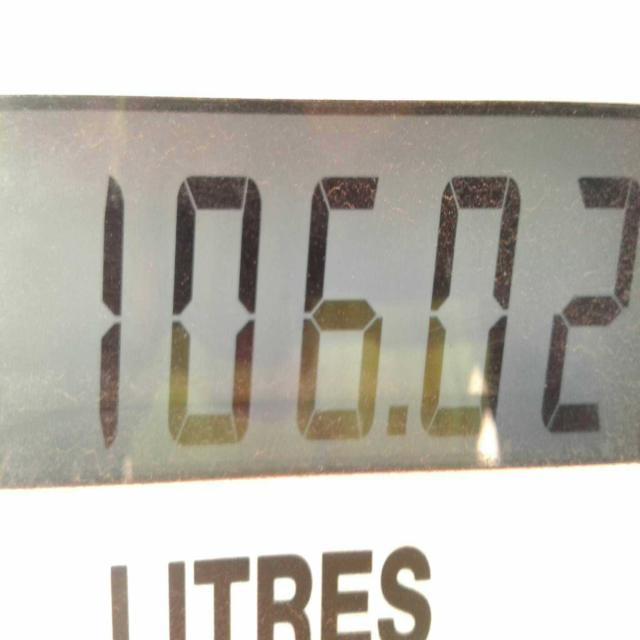.: (378, 362, 418, 464)
0: (426, 181, 532, 441), (160, 175, 255, 454)
1: (76, 159, 147, 441)
2: (543, 181, 638, 468)
6: (299, 171, 386, 442)
